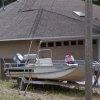Boat: (5, 45, 94, 90)
